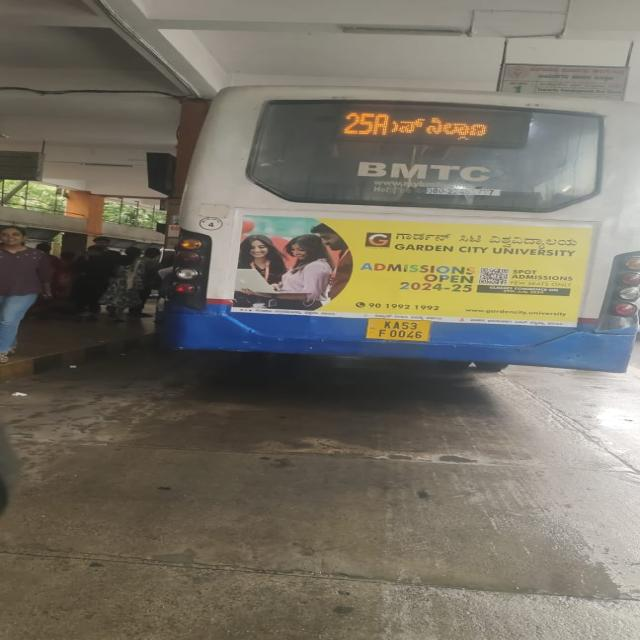bus: (163, 71, 640, 385)
display: (343, 103, 517, 143)
dnumber: (346, 111, 391, 137)
